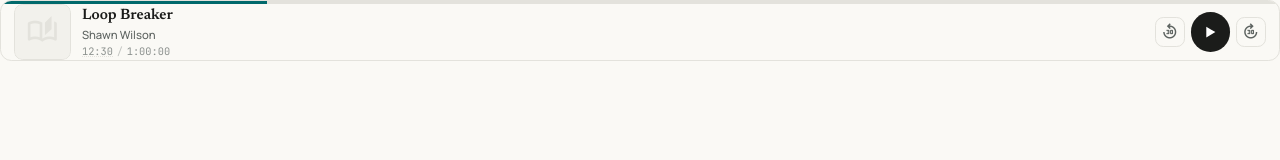
Test case: NowPlaying › typing a time › leaves the field on Escape without seeking
Click the button with class "np-now".
click(97, 51)  # box [82,46,113,57]
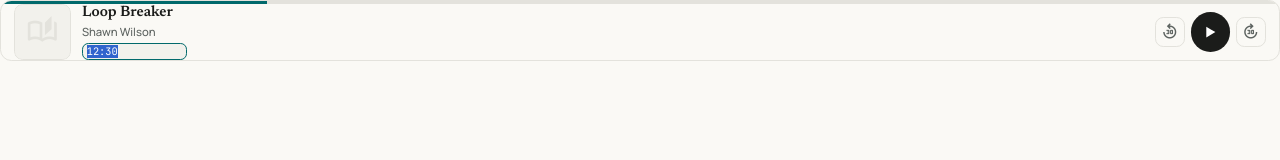
Press Escape in the field with class "np-time-input", box [82,43,187,60]
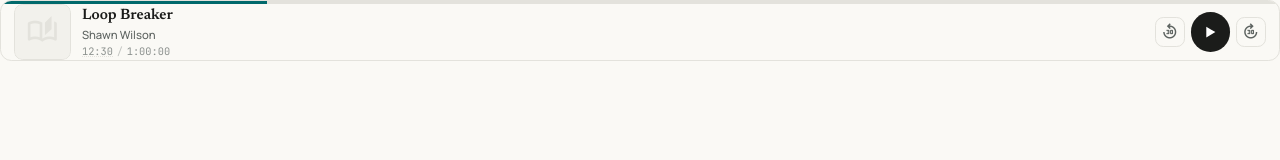
expect the field with class "np-time-input" is gone: met
